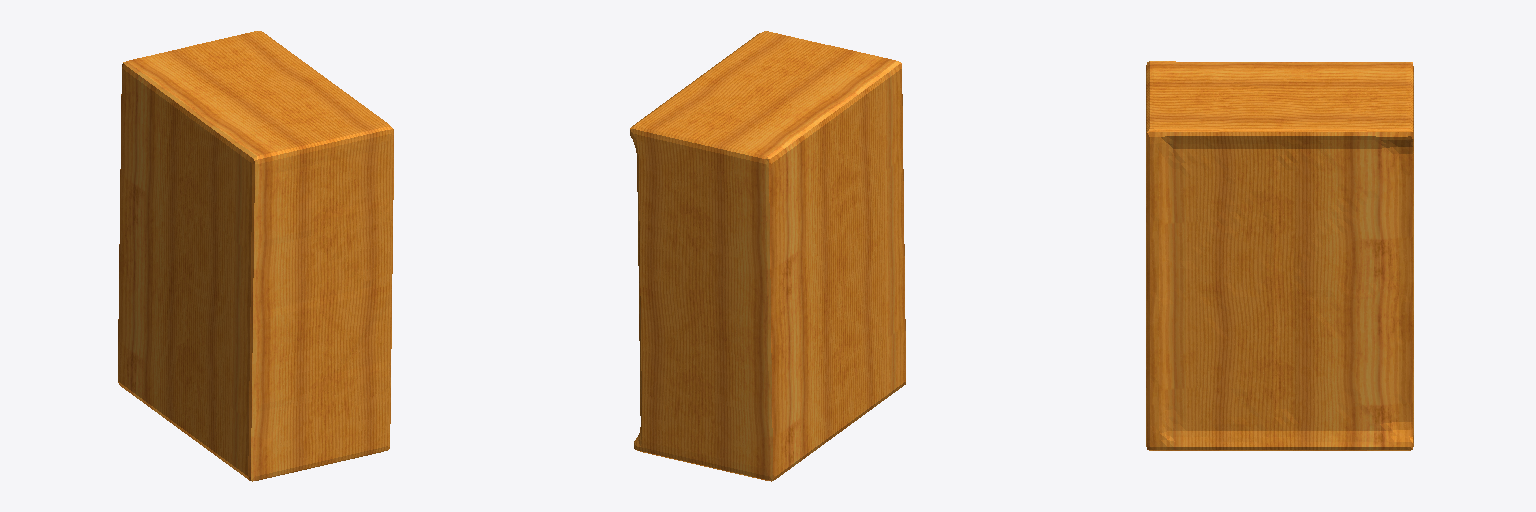
3 views of the same model, side by side, from view 1: azimuth 30°, elevation 25°; view 2: azimuth 150°, elevation 25°; view 3: azimuth 270°, elevation 25° (orthographic).
Bounding box in the file's own units: 0.4529 × 0.9671 × 0.7189.
Materials: 1 (1 with a texture image).